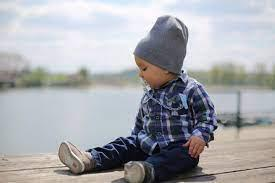child: (49, 12, 220, 181)
